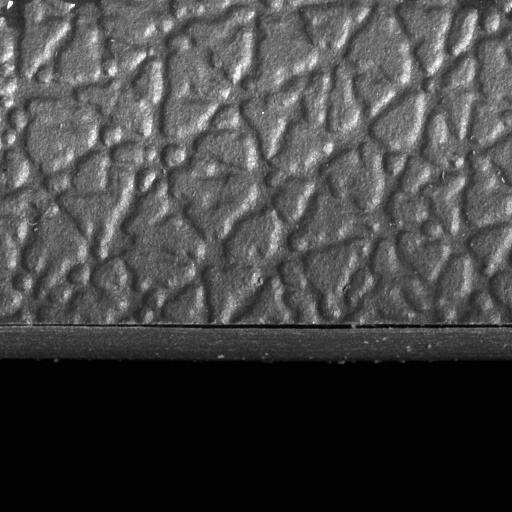jiaofeng: (148, 318, 511, 341)
